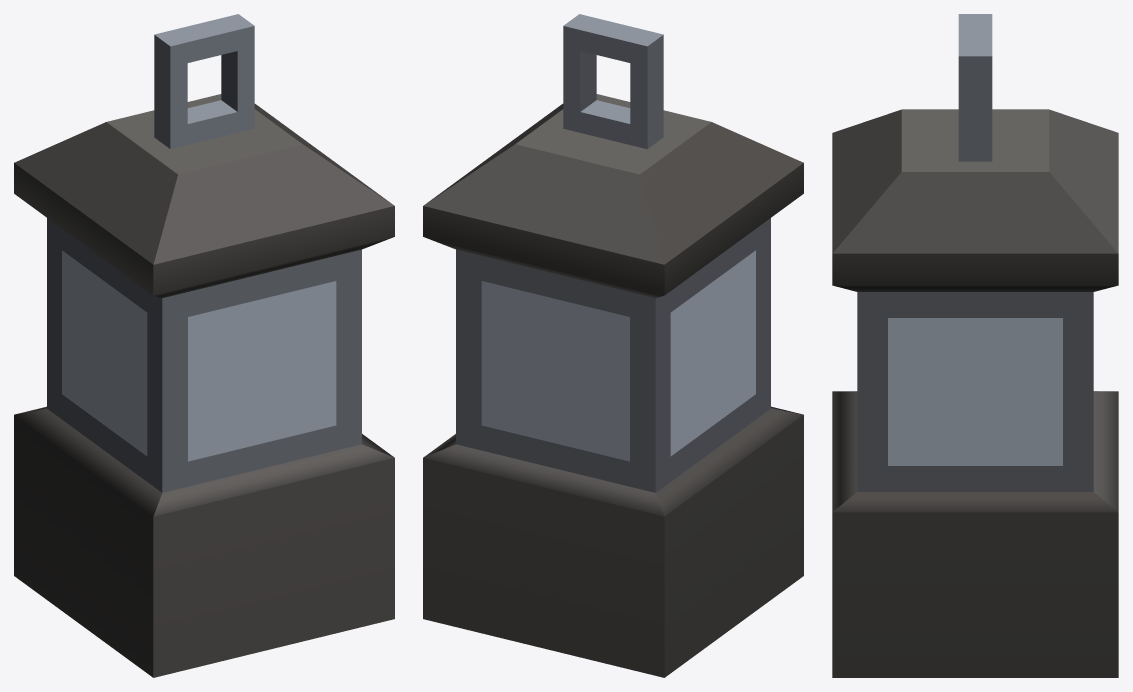
Rendered from AI_Item_Lantern.fbx.
3 renders of one model, left to right at view 1: azimuth 30°, elevation 25°; view 2: azimuth 150°, elevation 25°; view 3: azimuth 270°, elevation 25°, orthographic. The views are drawn at different scales.
Parts seen in each view (by area): view 1: AI_Item_Lantern; view 2: AI_Item_Lantern; view 3: AI_Item_Lantern.
Boxes of the visible parts, box(x1,y1,x2,y2) form: AI_Item_Lantern: box(14, 14, 394, 677); AI_Item_Lantern: box(423, 14, 803, 677); AI_Item_Lantern: box(832, 14, 1118, 677).
Bounding box in the file's own units: 0.3143 × 0.7058 × 0.3143.
